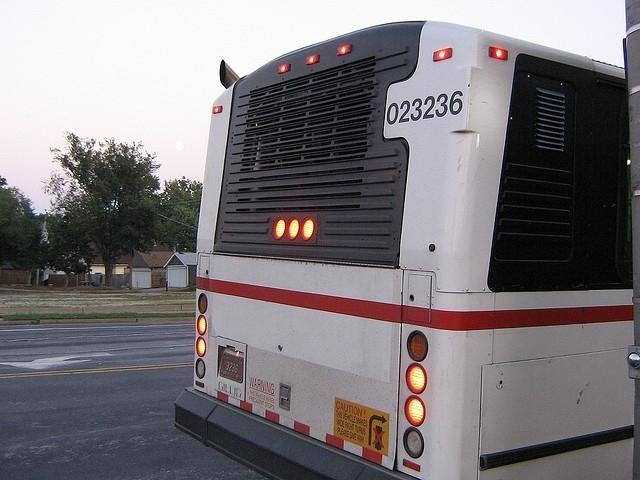bus: (172, 22, 638, 474)
